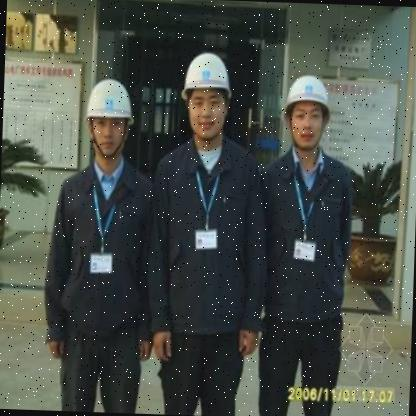capacete: (179, 46, 235, 144), (84, 75, 138, 162), (282, 70, 335, 154)
sem_colete_refletivo: (146, 140, 276, 338), (42, 164, 157, 332), (258, 150, 358, 326)
